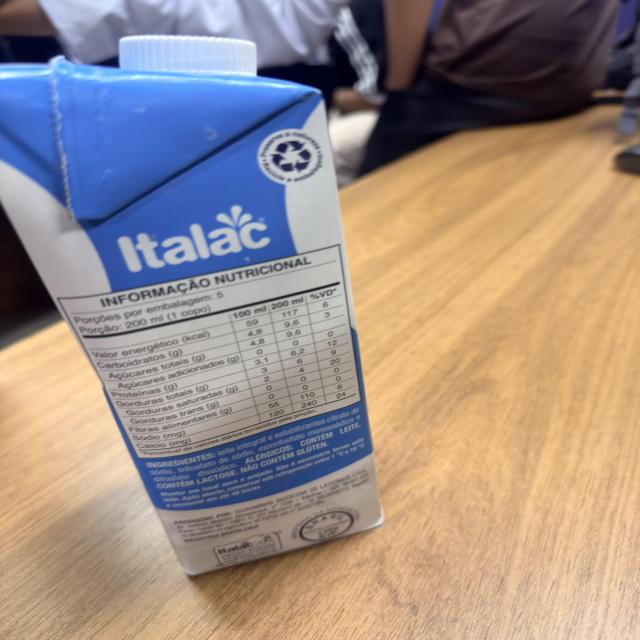Caixa de Leite: (5, 44, 389, 566)
